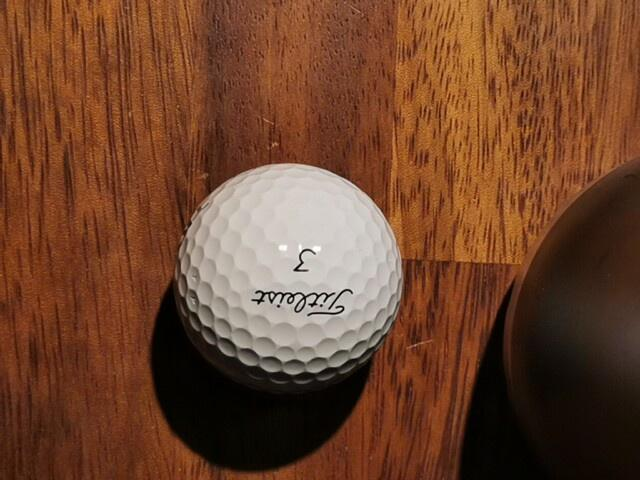Ball: (173, 162, 404, 395)
Titleist: (251, 288, 355, 317)
